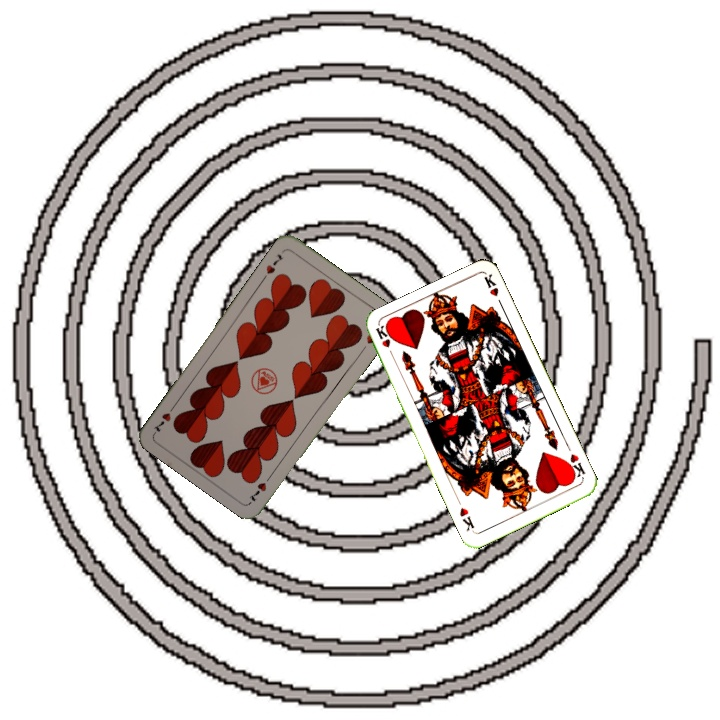H7: (245, 470, 275, 504), (262, 249, 286, 277)
HK: (372, 322, 398, 362), (562, 450, 588, 482)
